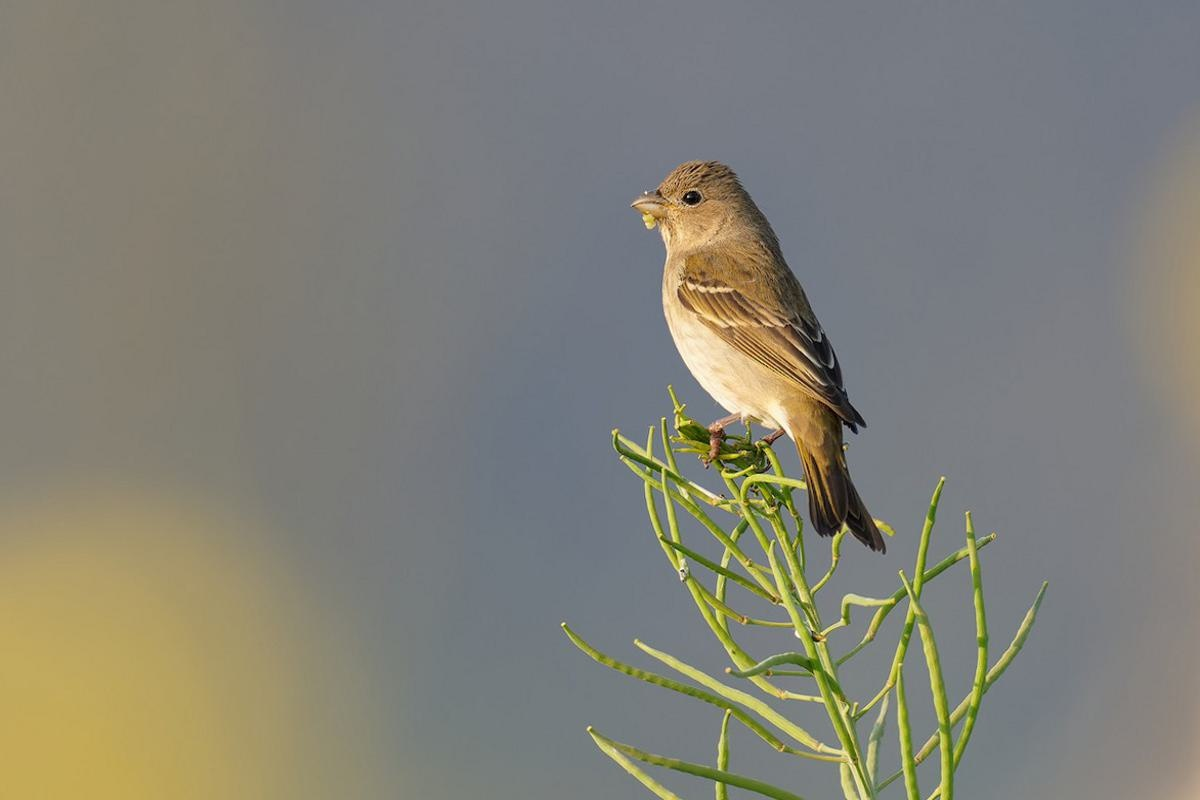rosefinch: (638, 144, 886, 536)
